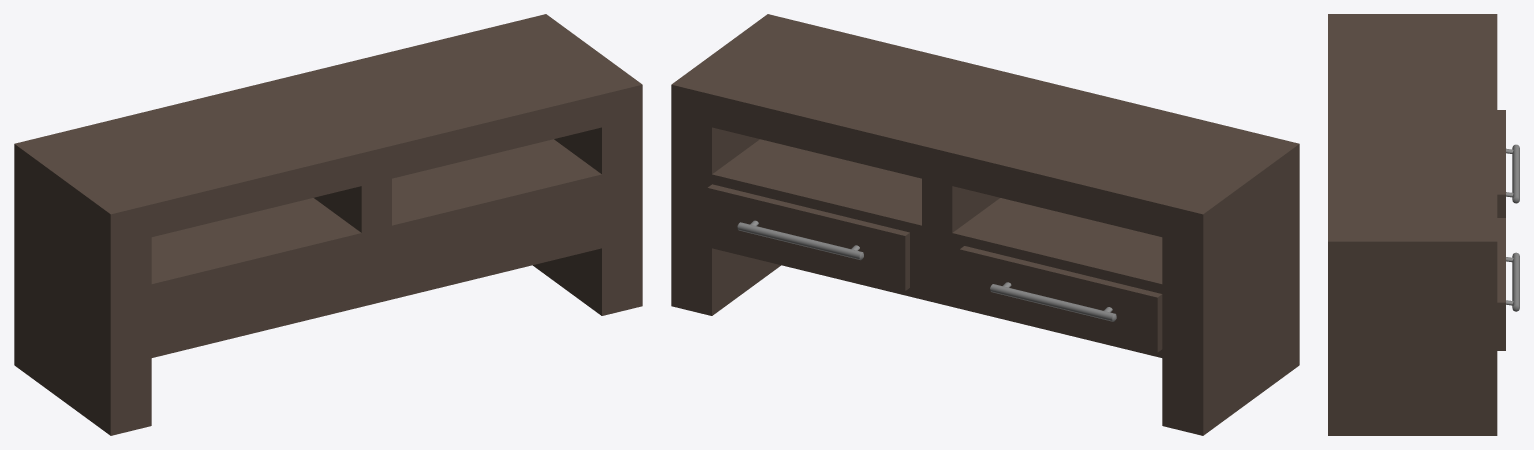
File: MeubleTV_1.fbx
3 renders of one model, left to right at view 1: azimuth 30°, elevation 25°; view 2: azimuth 150°, elevation 25°; view 3: azimuth 270°, elevation 25°, orthographic. The views are drawn at different scales.
Parts seen in each view (by area): view 1: pCube2453; view 2: pCube2453, pCube2455, pCube2454, pCylinder1565, pCylinder1700; view 3: pCube2453, pCube2454, pCube2455, pCylinder1565, pCylinder1700.
Boxes of the visible parts, bbox=[...] form: pCube2453: bbox=[14, 14, 642, 435]; pCube2453: bbox=[671, 14, 1299, 435]; pCube2455: bbox=[959, 246, 1162, 352]; pCube2454: bbox=[707, 184, 909, 290]; pCylinder1565: bbox=[990, 284, 1116, 321]; pCylinder1700: bbox=[737, 222, 863, 260]; pCube2453: bbox=[1328, 14, 1497, 435]; pCube2454: bbox=[1497, 218, 1505, 350]; pCube2455: bbox=[1497, 110, 1505, 217]; pCylinder1565: bbox=[1512, 144, 1519, 203]; pCylinder1700: bbox=[1512, 252, 1519, 311].
Bounding box in the file's own units: 86.34 × 34.37 × 30.74.
